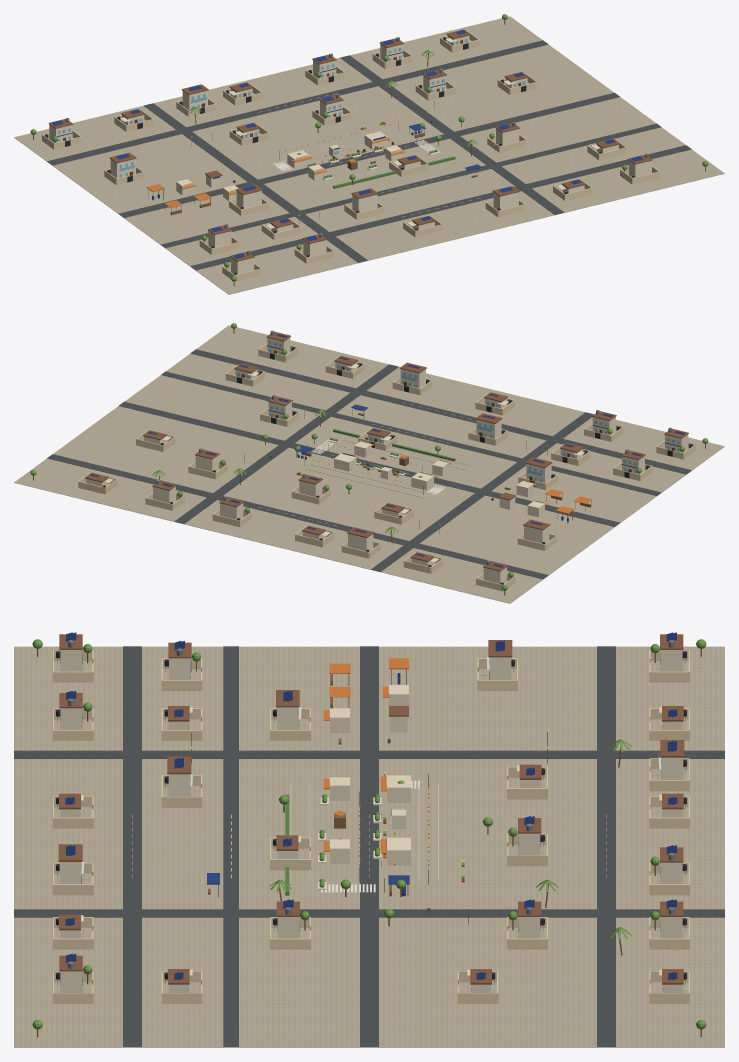
Rendered from olaiya.glb.
3 views of the same model, one above another, from view 1: azimuth 30°, elevation 25°; view 2: azimuth 150°, elevation 25°; view 3: azimuth 270°, elevation 25° (orthographic). The views are drawn at different scales.
Visible parts, largest first — view 1: olj_ground, olj_olaiya-north-road, olj_olaiya-market-road, olj_olaiya-south-road, olj_olaiya-transit-lane, olj_olaiya-east-road, olj_olaiya-main-road; view 2: olj_ground, olj_olaiya-south-road, olj_olaiya-north-road, olj_olaiya-market-road, olj_olaiya-transit-lane, olj_olaiya-east-road, olj_olaiya-main-road; view 3: olj_ground, olj_olaiya-south-road, olj_olaiya-north-road, olj_olaiya-market-road, olj_olaiya-transit-lane, olj_olaiya-main-road, olj_olaiya-east-road, olj_place_olaiya-bank-lobby_shop, olj_place_olaiya-central_shop.
Part boxes in pixels (x1,y1,x2,y2): olj_ground: (14, 16, 724, 294); olj_olaiya-north-road: (47, 40, 548, 165); olj_olaiya-market-road: (119, 92, 619, 217); olj_olaiya-south-road: (190, 145, 691, 270); olj_olaiya-transit-lane: (161, 123, 661, 248); olj_olaiya-east-road: (340, 55, 564, 214); olj_olaiya-main-road: (144, 103, 367, 262); olj_ground: (14, 325, 724, 603); olj_olaiya-south-road: (190, 349, 691, 474); olj_olaiya-north-road: (47, 454, 548, 579); olj_olaiya-market-road: (119, 401, 619, 526); olj_olaiya-transit-lane: (161, 371, 661, 495); olj_olaiya-east-road: (174, 364, 398, 523); olj_olaiya-main-road: (371, 412, 593, 571); olj_ground: (14, 646, 724, 1047); olj_olaiya-south-road: (123, 646, 141, 1046); olj_olaiya-north-road: (597, 646, 615, 1046); olj_olaiya-market-road: (360, 646, 378, 1046); olj_olaiya-transit-lane: (223, 646, 238, 1046); olj_olaiya-main-road: (14, 750, 724, 758); olj_olaiya-east-road: (14, 909, 724, 917); olj_place_olaiya-bank-lobby_shop: (387, 837, 410, 865); olj_place_olaiya-central_shop: (387, 775, 410, 802).
Size of the model in its own units: 180 by 7.5 by 135.
25 materials, 5 textured.
